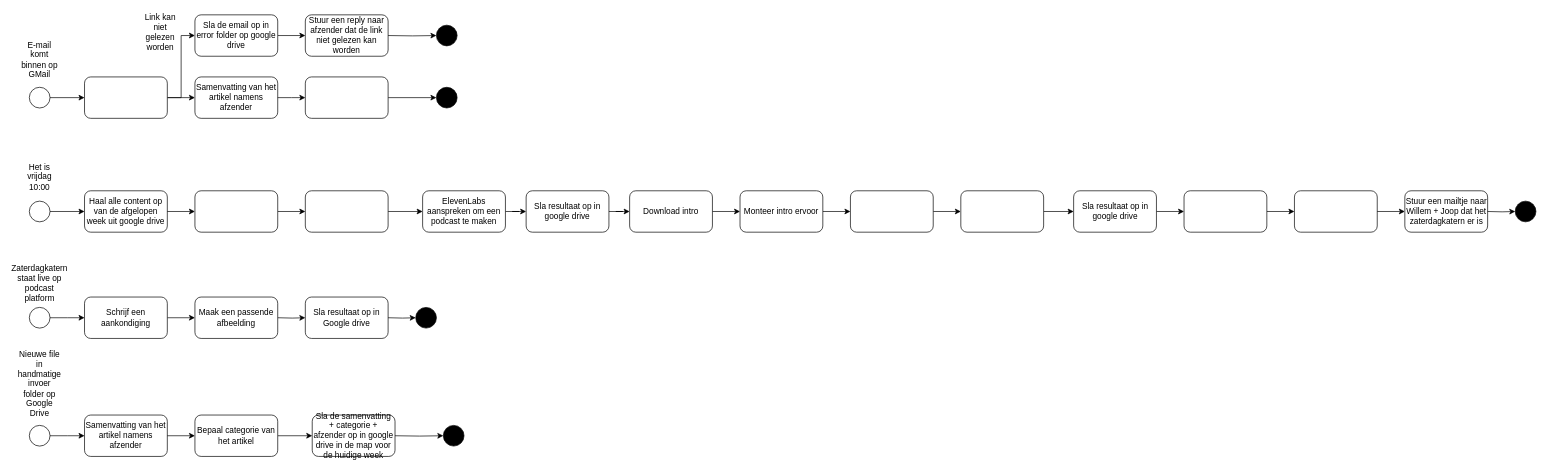
Some shapes in this 1548 by 472 pixel diagram are drawn without their labels. The shapes that lost their labels are listed below. From the top down, each one's box as (x1, y1, x2, y2) in pixels, then its label:
(84, 76, 167, 118): Download content van link in de e-mail
(305, 76, 388, 118): Sla de samenvatting afzender op in google drive in de map voor de huidige week
(194, 190, 278, 232): Merge de content aan elkaar
(305, 190, 388, 232): Maak podcast script namens afzender
(850, 190, 933, 232): Download outro
(960, 190, 1044, 232): Monteer outro erachter
(1183, 190, 1267, 232): Maak transcript
(1294, 190, 1377, 232): Publiceer podcast via API
